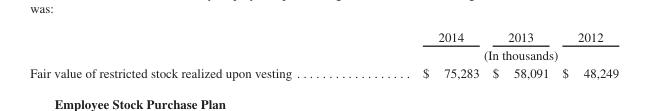table: (29, 29, 618, 79)
table column: (29, 29, 356, 79), (356, 29, 485, 79), (485, 29, 554, 79), (554, 29, 618, 79)
table column header: (29, 29, 618, 63)
table row: (29, 45, 618, 63), (29, 29, 618, 45), (29, 63, 618, 79)
table spanning cell: (356, 45, 618, 63)
